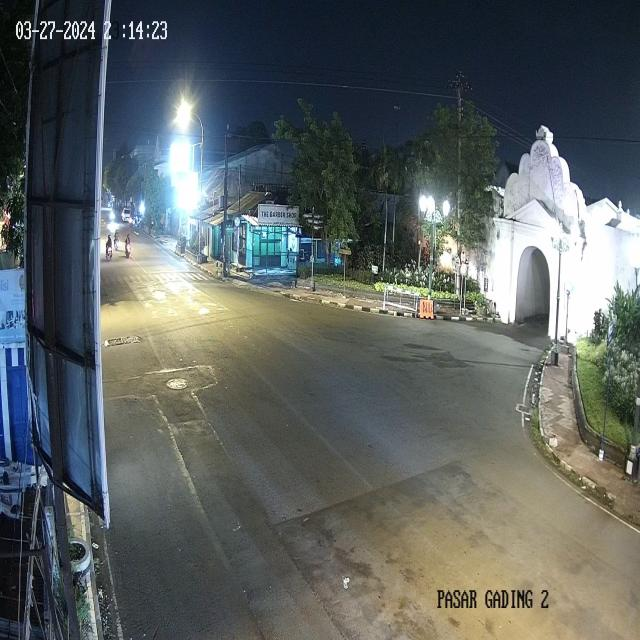car: (122, 209, 132, 225)
motorcycle: (124, 232, 131, 258), (106, 235, 112, 262), (114, 228, 120, 251)
